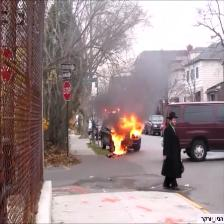fire: (103, 112, 153, 161)
